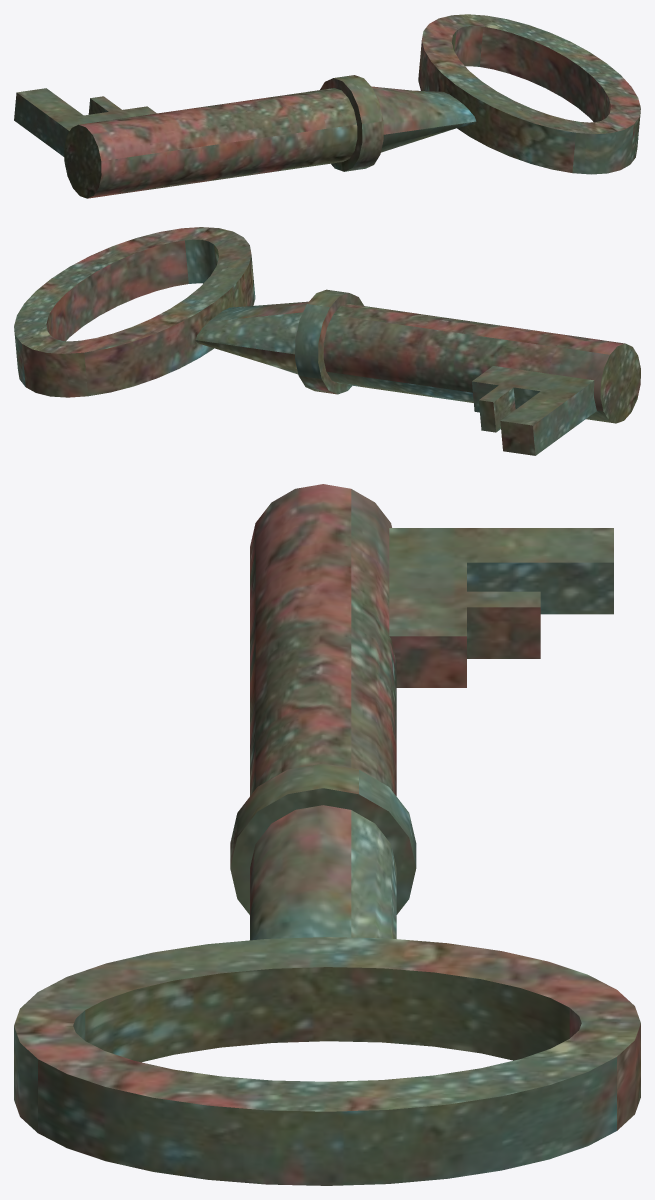
File: chave_igreja.glb
3 renders of one model, top to bottom at view 1: azimuth 30°, elevation 25°; view 2: azimuth 150°, elevation 25°; view 3: azimuth 270°, elevation 25°, orthographic. The views are drawn at different scales.
Parts seen in each view (by area): view 1: chave_igreja; view 2: chave_igreja; view 3: chave_igreja.
Boxes of the visible parts, x1,y1,x2,y2 form: chave_igreja: (14,14,640,198); chave_igreja: (14,227,640,455); chave_igreja: (14,484,640,1185).
Size of the model in its own units: 0.075 by 0.0141 by 0.0392.
1 material, 1 textured.
